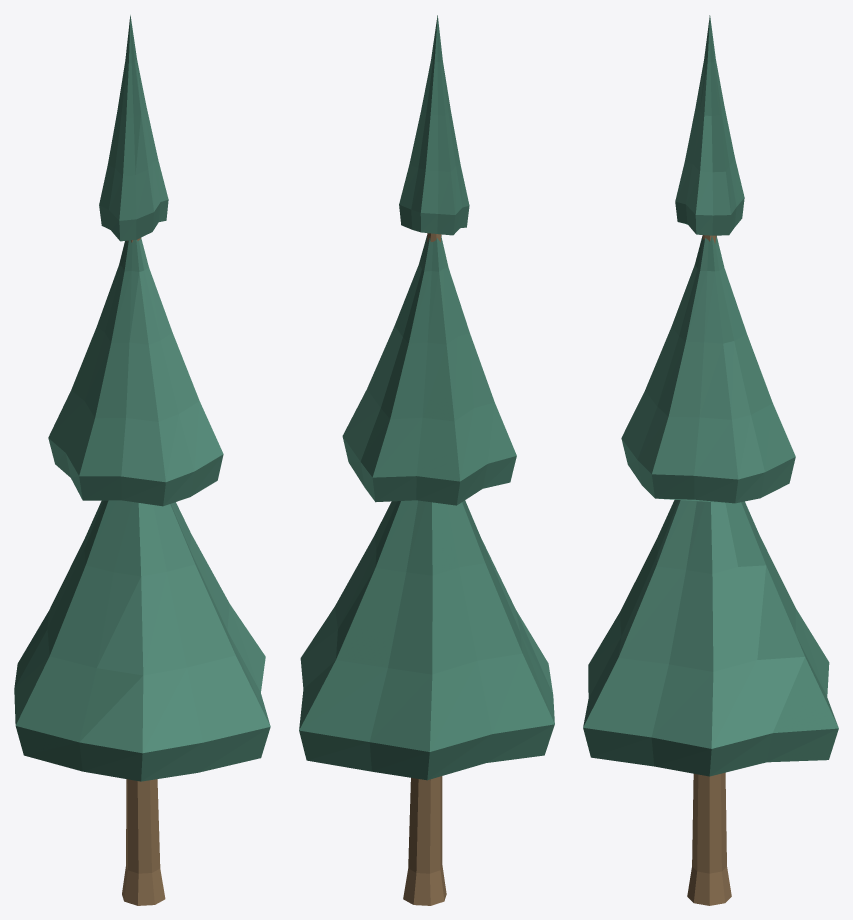
The model's file is conifer_02.glb.
The picture shows the model from 3 angles, left to right: view 1: azimuth 30°, elevation 25°; view 2: azimuth 150°, elevation 25°; view 3: azimuth 270°, elevation 25°; orthographic projection.
Visible parts, largest first — view 1: Conifer_02; view 2: Conifer_02; view 3: Conifer_02.
Boxes of the visible parts, x1,y1,x2,y2 form: Conifer_02: [14, 15, 270, 905]; Conifer_02: [299, 15, 554, 905]; Conifer_02: [583, 15, 838, 905].
Bounding box in the file's own units: 4.78 × 16.03 × 4.24.
